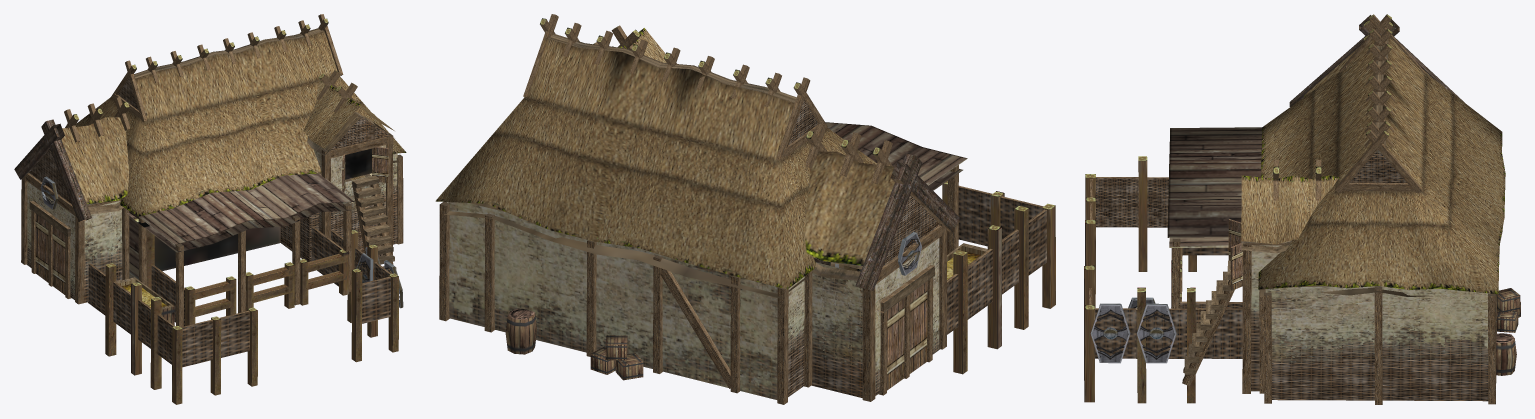
Rendered from stable.dae.
3 renders of one model, left to right at view 1: azimuth 30°, elevation 25°; view 2: azimuth 150°, elevation 25°; view 3: azimuth 270°, elevation 25°, orthographic. The views are drawn at different scales.
Visible parts, largest first — view 1: stable; view 2: stable; view 3: stable.
Part boxes in pixels (<box>): stable: <box>14,14,406,404</box>; stable: <box>435,14,1055,404</box>; stable: <box>1084,14,1520,404</box>.
Bounding box in the file's own units: 23.11 × 22.41 × 16.87.
